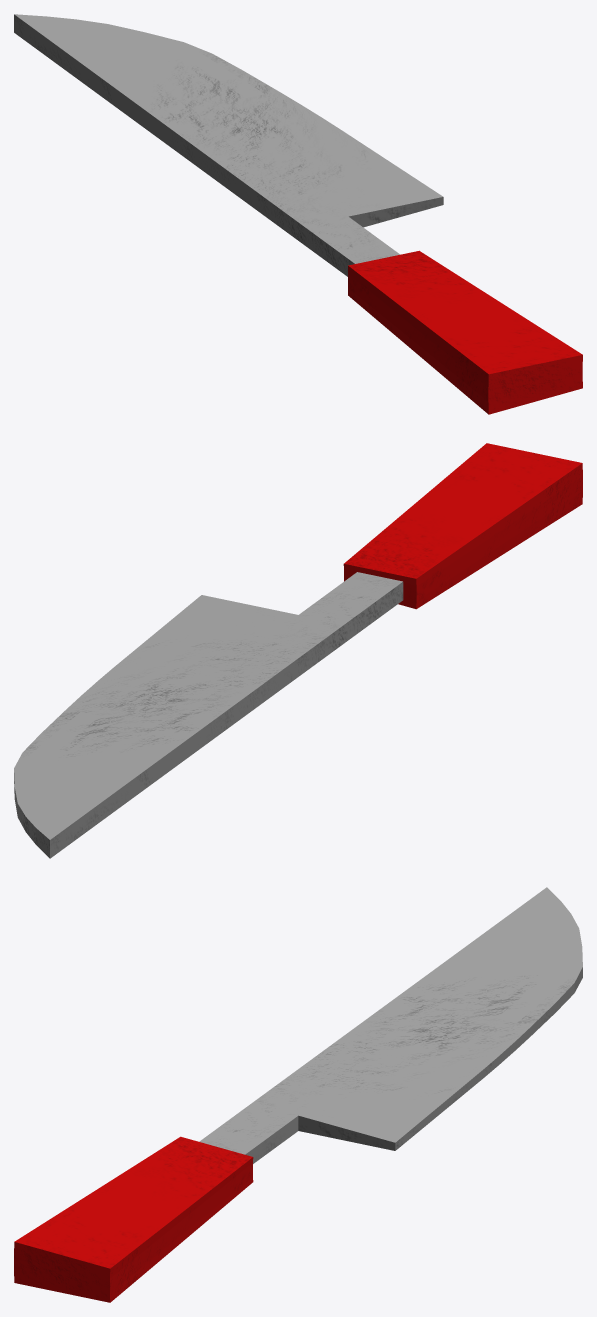
3 views of the same model, one above another, from view 1: azimuth 30°, elevation 25°; view 2: azimuth 150°, elevation 25°; view 3: azimuth 330°, elevation 25° (orthographic).
Parts seen in each view (by area): view 1: 식칼; view 2: 식칼; view 3: 식칼.
Part boxes in pixels (x1=…): 식칼: x1=14, y1=14, x2=582, y2=414; 식칼: x1=14, y1=443, x2=582, y2=858; 식칼: x1=14, y1=887, x2=582, y2=1302.
Size of the model in its own units: 143 by 33.49 by 749.
Materials: 1 (1 with a texture image).
